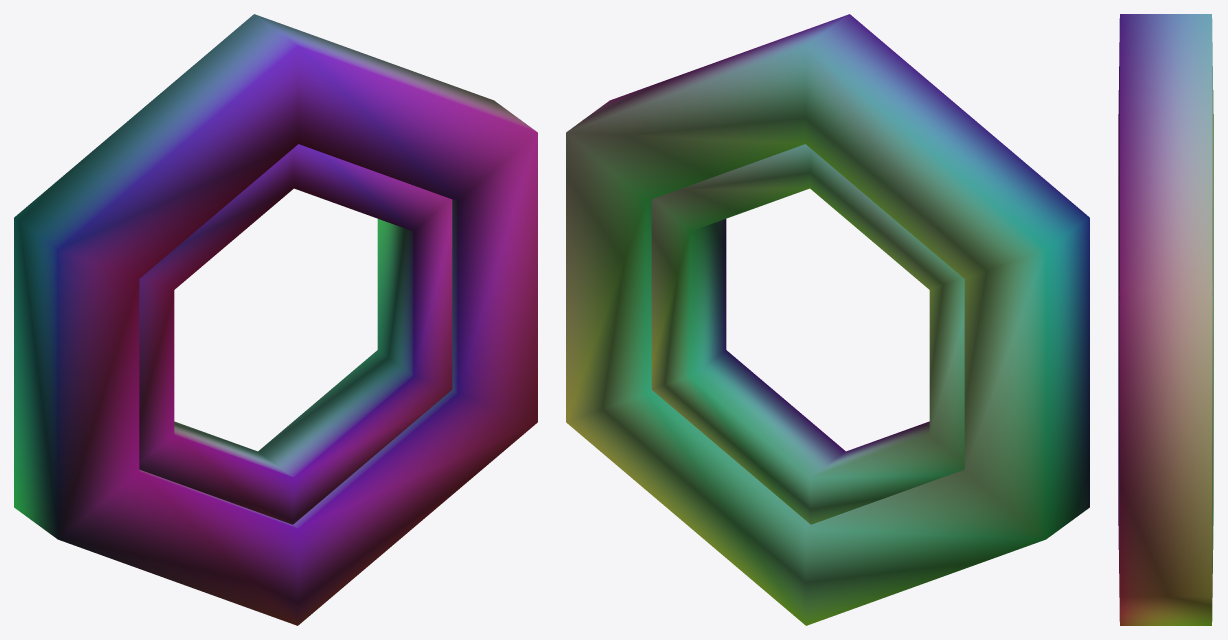
File: SM_FX_HexPlate.fbx
The picture shows the model from 3 angles, left to right: view 1: azimuth 30°, elevation 25°; view 2: azimuth 150°, elevation 25°; view 3: azimuth 270°, elevation 25°; orthographic projection. The views are drawn at different scales.
Parts seen in each view (by area): view 1: SM_FX_HexPlate; view 2: SM_FX_HexPlate; view 3: SM_FX_HexPlate.
Part boxes in pixels (x1=…): SM_FX_HexPlate: x1=14, y1=14, x2=537, y2=625; SM_FX_HexPlate: x1=566, y1=14, x2=1089, y2=625; SM_FX_HexPlate: x1=1118, y1=14, x2=1213, y2=625.
Size of the model in its own units: 0.431 by 0.4977 by 0.0701.
